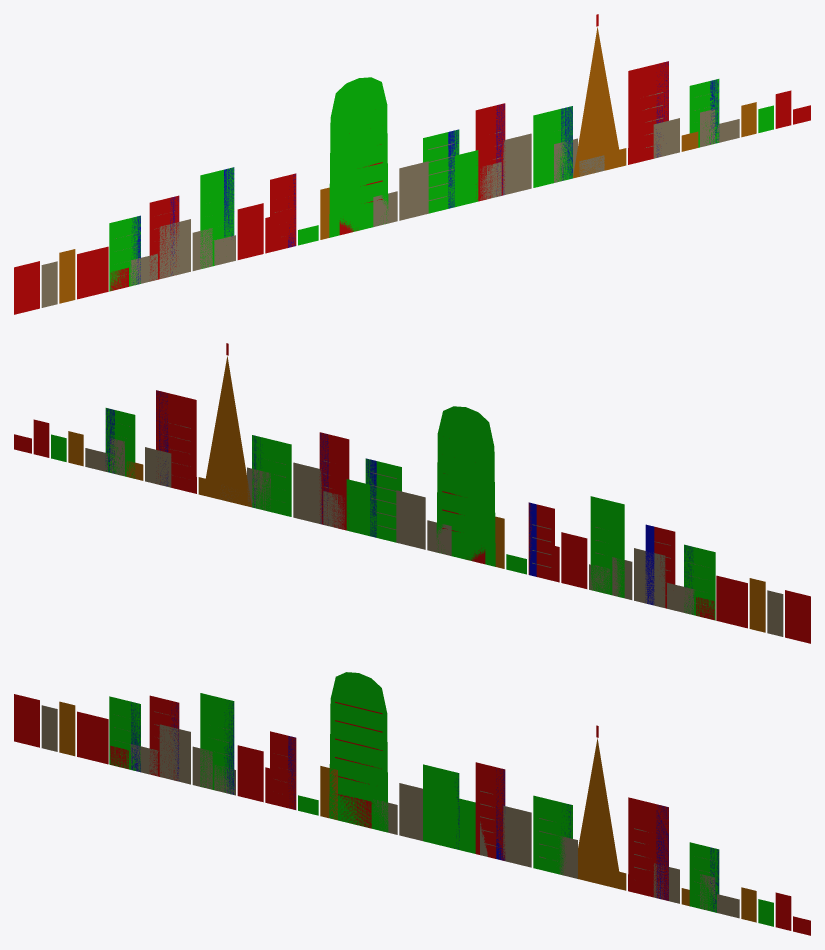
File: far_city_high.glb
3 renders of one model, top to bottom at view 1: azimuth 30°, elevation 25°; view 2: azimuth 150°, elevation 25°; view 3: azimuth 330°, elevation 25°, orthographic.
Parts seen in each view (by area): view 1: far_city_high; view 2: far_city_high; view 3: far_city_high.
Part boxes in pixels (x1,y1,x2,y2): far_city_high: [14, 14, 810, 314]; far_city_high: [14, 343, 810, 643]; far_city_high: [14, 672, 810, 935].
Bounding box in the file's own units: 4.8 × 0.91 × 0.
